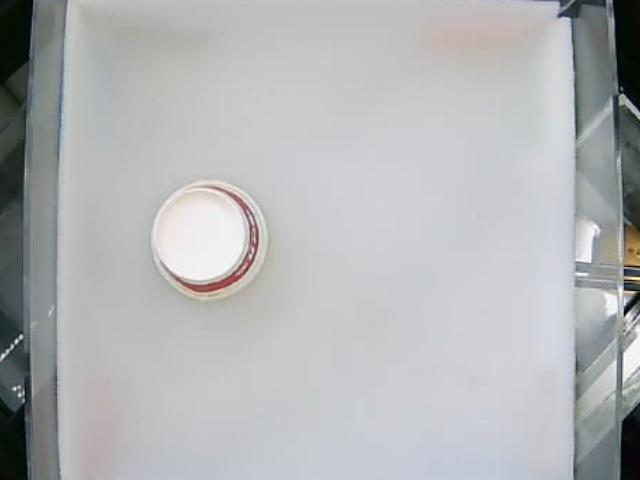Cup: (147, 181, 270, 299)
